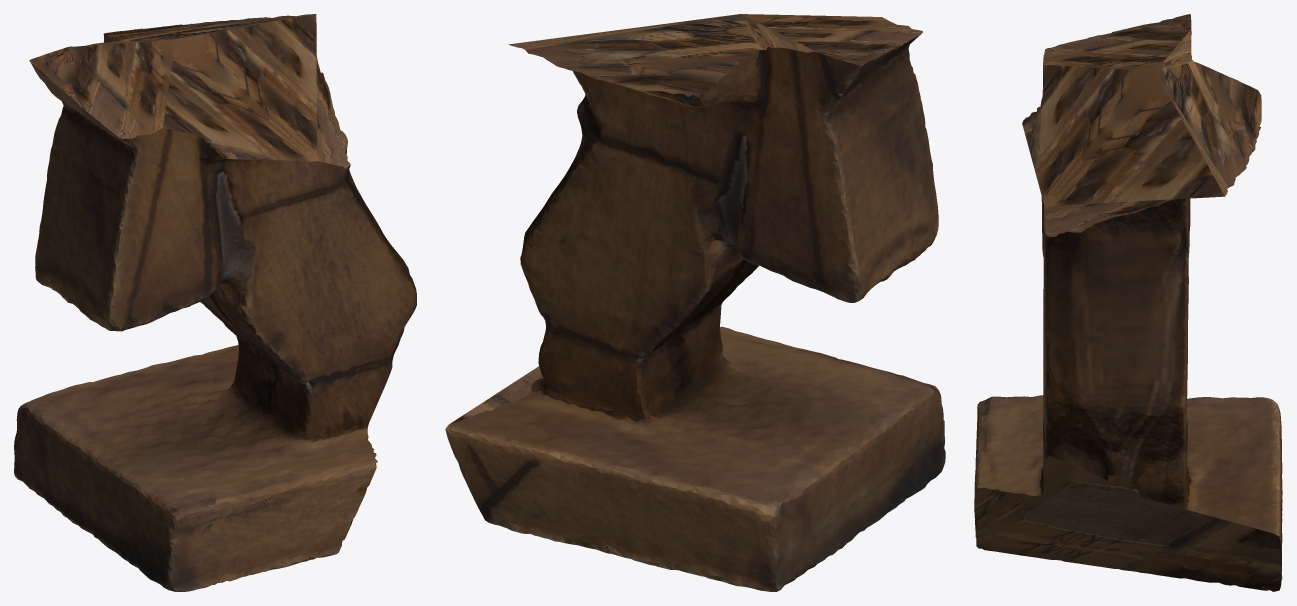
The picture shows the model from 3 angles, left to right: view 1: azimuth 30°, elevation 25°; view 2: azimuth 150°, elevation 25°; view 3: azimuth 270°, elevation 25°; orthographic projection. The views are drawn at different scales.
Visible parts, largest first — view 1: KLA-Or-10000_cell.009; view 2: KLA-Or-10000_cell.009; view 3: KLA-Or-10000_cell.009.
Boxes of the visible parts, x1,y1,x2,y2 form: KLA-Or-10000_cell.009: (14,14,416,591); KLA-Or-10000_cell.009: (445,14,945,591); KLA-Or-10000_cell.009: (974,14,1282,591).
Bounding box in the file's own units: 51.26 × 68.21 × 42.6.
